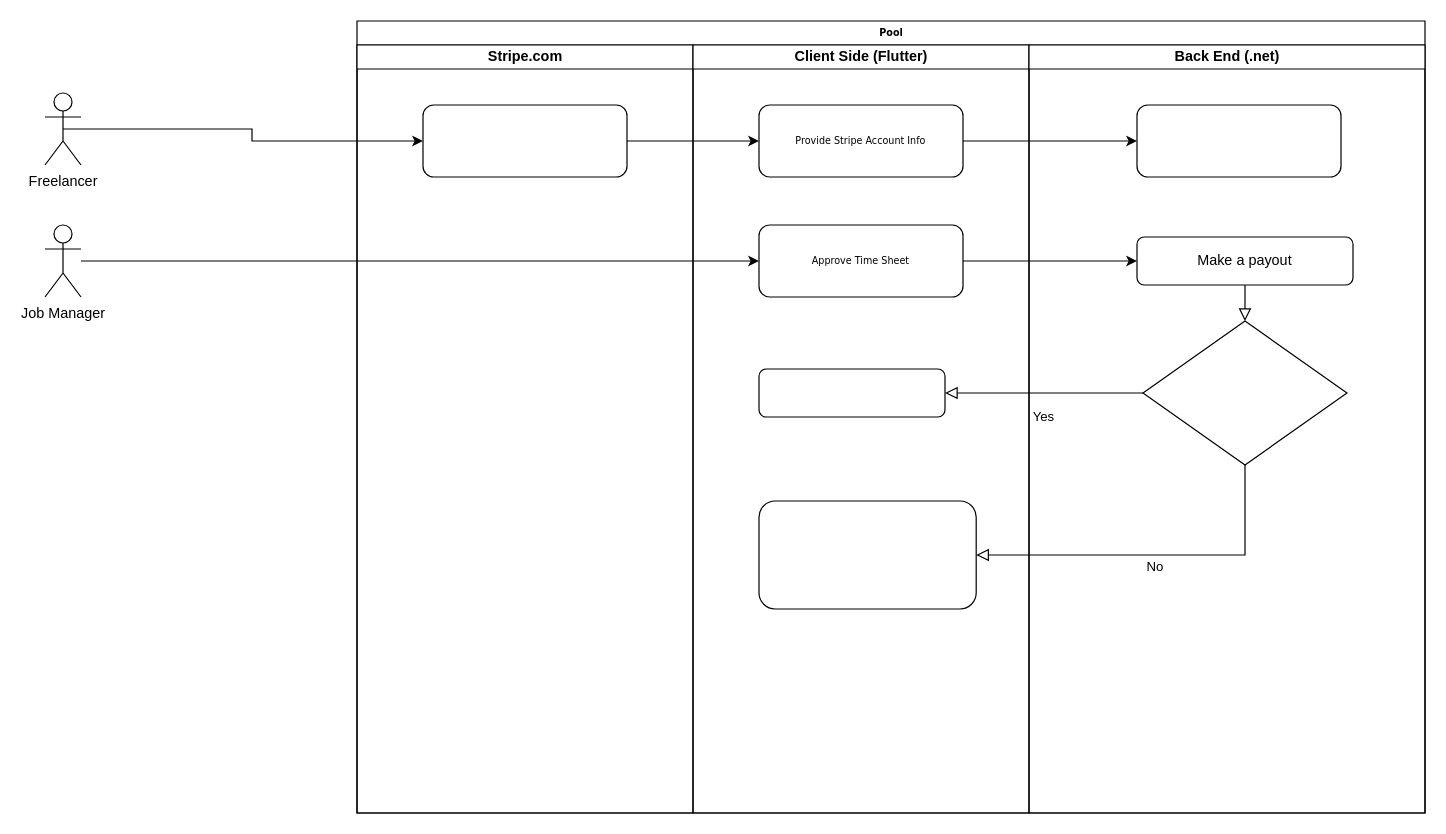
This 1446x834 diagram has some shape labels left out. Each missing label, with the centre of its shape:
"Error?" belongs at point 1244,392.
"Register (Create) Stripe Account" belongs at point 524,140.
"Save Stripe Account Info" belongs at point 1238,140.
"Show Error" belongs at point 851,392.
"Show Success with Confirmation #" belongs at point 867,554.
